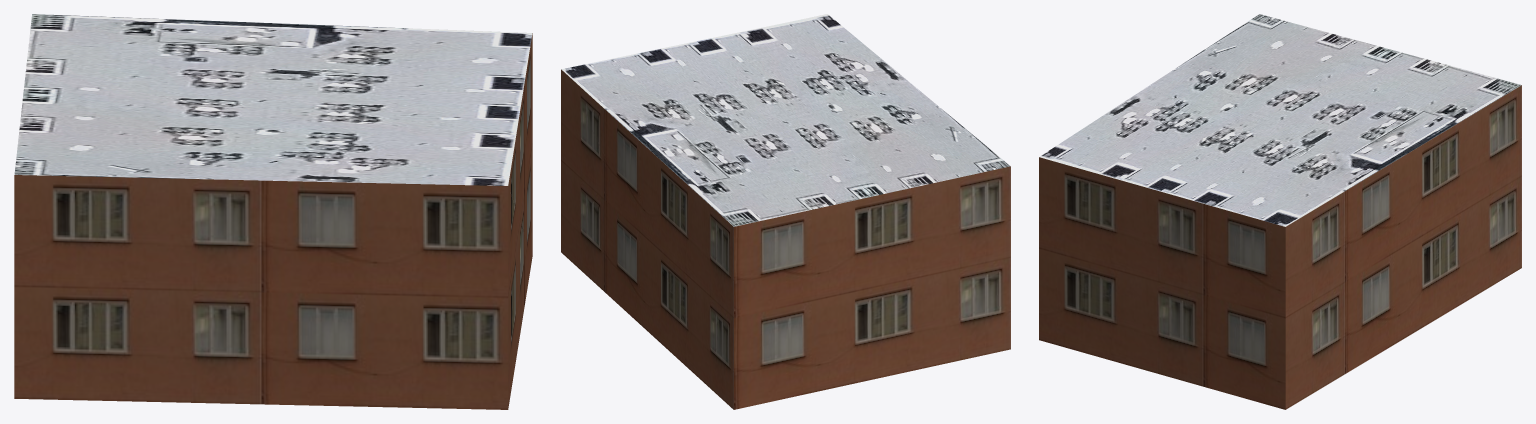
The model's file is ResTex__3103.fbx.
The picture shows the model from 3 angles, left to right: view 1: azimuth 30°, elevation 25°; view 2: azimuth 150°, elevation 25°; view 3: azimuth 270°, elevation 25°; orthographic projection. The views are drawn at different scales.
Parts seen in each view (by area): view 1: CityEngineMaterial_20_m, CityEngineMaterial_m; view 2: CityEngineMaterial_20_m, CityEngineMaterial_m; view 3: CityEngineMaterial_20_m, CityEngineMaterial_m.
Part boxes in pixels (x1=…): CityEngineMaterial_20_m: x1=14, y1=33, x2=532, y2=409; CityEngineMaterial_m: x1=14, y1=14, x2=532, y2=185; CityEngineMaterial_20_m: x1=561, y1=69, x2=1010, y2=409; CityEngineMaterial_m: x1=561, y1=14, x2=1010, y2=226; CityEngineMaterial_20_m: x1=1039, y1=85, x2=1521, y2=409; CityEngineMaterial_m: x1=1039, y1=14, x2=1521, y2=226.
Size of the model in its own units: 14.98 by 6 by 14.35.
Materials: 2 (2 with a texture image).
